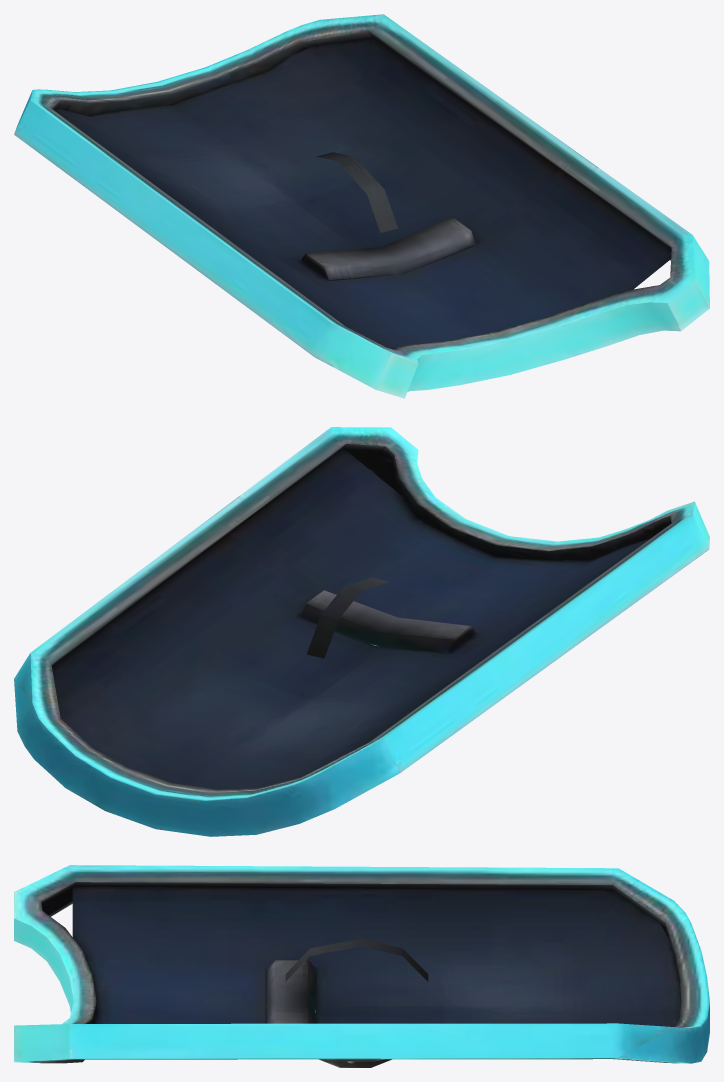
Rendered from scutum-meshy.glb.
The picture shows the model from 3 angles, top to bottom: view 1: azimuth 30°, elevation 25°; view 2: azimuth 150°, elevation 25°; view 3: azimuth 270°, elevation 25°; orthographic projection. The views are drawn at different scales.
Parts seen in each view (by area): view 1: Mesh; view 2: Mesh; view 3: Mesh.
Boxes of the visible parts, box(x1,y1,x2,y2) form: Mesh: box(14, 14, 709, 398); Mesh: box(14, 427, 709, 836); Mesh: box(14, 865, 709, 1067).
Bounding box in the file's own units: 0.5009 × 0.1589 × 0.85.
1 material, 1 textured.
